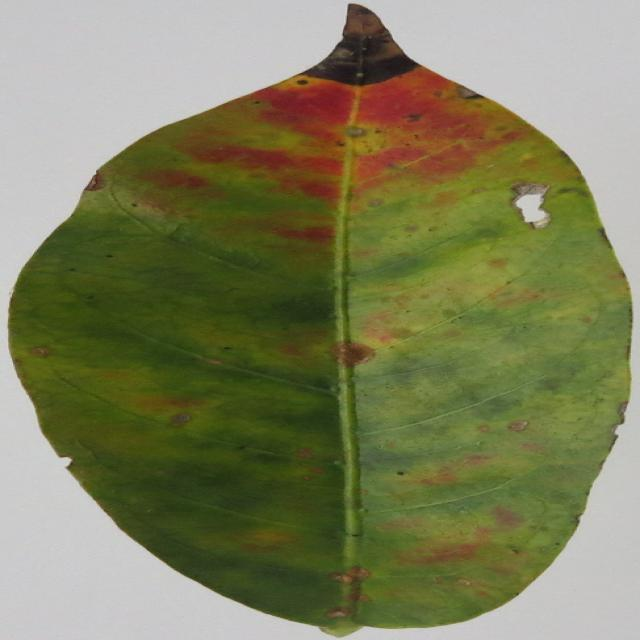DeficienciaNutricional-Fosforo: (9, 5, 631, 636)
